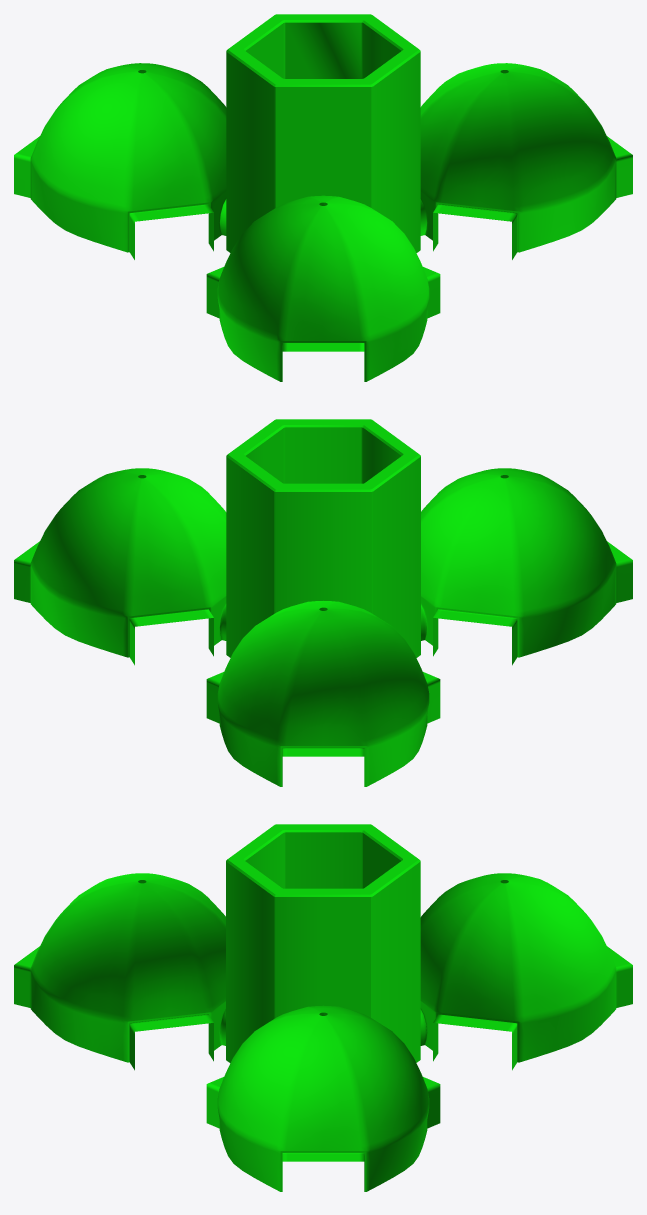
3 views of the same model, one above another, from view 1: azimuth 30°, elevation 25°; view 2: azimuth 150°, elevation 25°; view 3: azimuth 270°, elevation 25° (orthographic).
Visible parts, largest first — view 1: Object004; view 2: Object004; view 3: Object004.
Boxes of the visible parts, bbox=[...] form: Object004: bbox=[14, 14, 632, 381]; Object004: bbox=[14, 419, 632, 786]; Object004: bbox=[14, 824, 632, 1191].
Bounding box in the file's own units: 13284 × 5405 × 15131.
